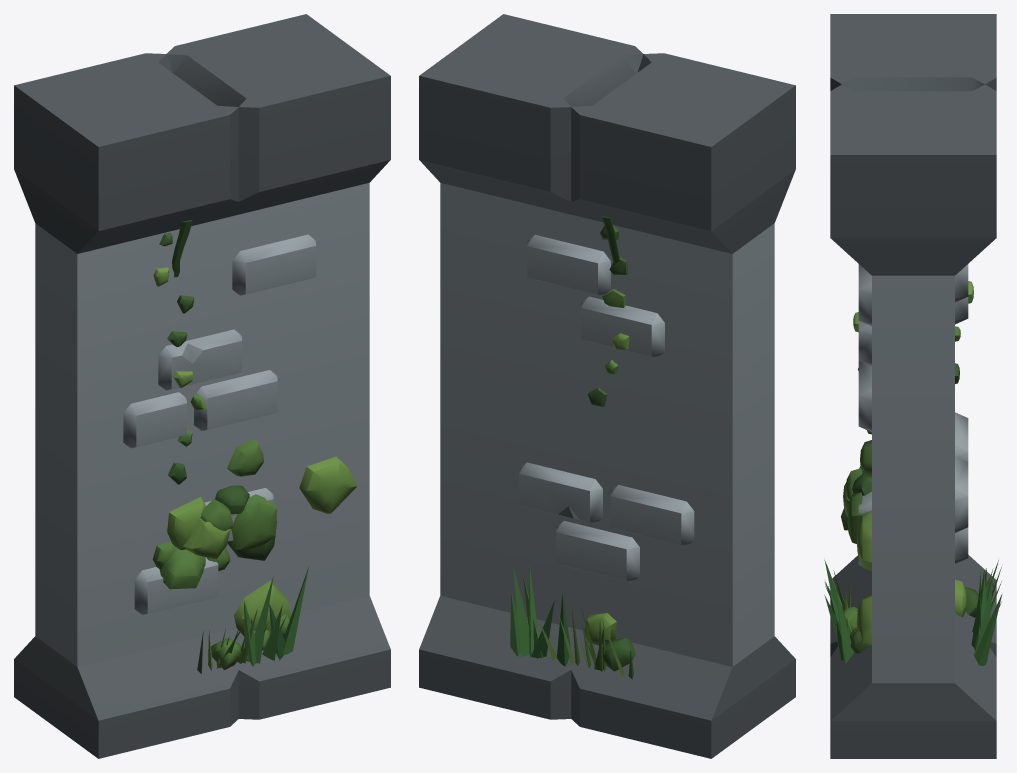
File: wall_mossy_half_A.glb
3 views of the same model, side by side, from view 1: azimuth 30°, elevation 25°; view 2: azimuth 150°, elevation 25°; view 3: azimuth 270°, elevation 25° (orthographic).
Parts seen in each view (by area): view 1: Item; view 2: Item; view 3: Item.
Boxes of the visible parts, box(x1,y1,x2,y2) form: Item: box(14, 14, 390, 758); Item: box(419, 14, 795, 758); Item: box(824, 14, 1002, 758).
Bounding box in the file's own units: 2 × 4 × 1.07.
Materials: 3 (3 with a texture image).
